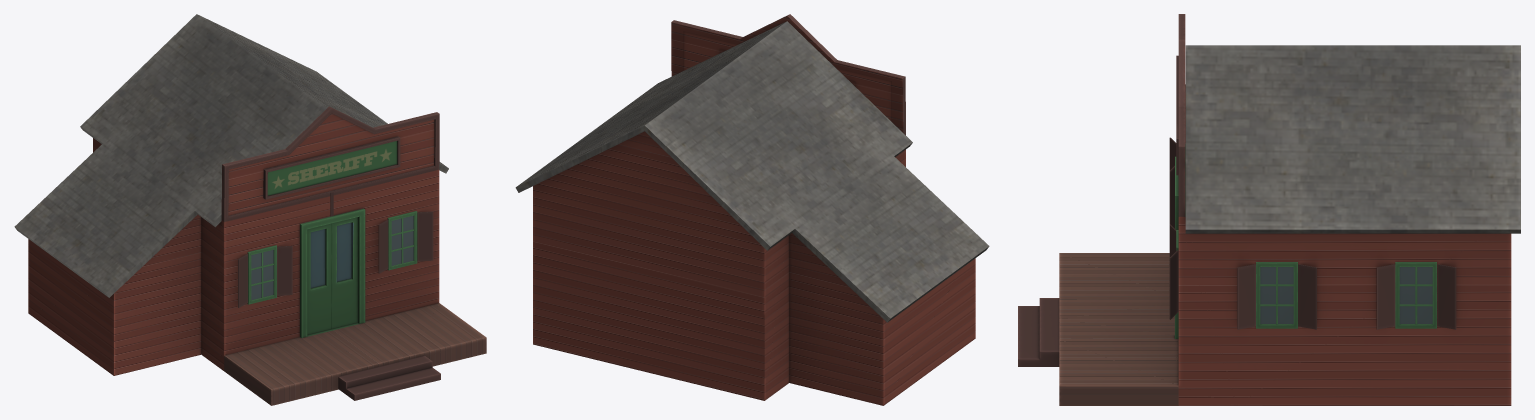
File: Sheriff.fbx
The picture shows the model from 3 angles, left to right: view 1: azimuth 30°, elevation 25°; view 2: azimuth 150°, elevation 25°; view 3: azimuth 270°, elevation 25°; orthographic projection. The views are drawn at different scales.
Parts seen in each view (by area): view 1: Building_14; view 2: Building_14; view 3: Building_14.
Boxes of the visible parts, <box> form: Building_14: <box>14,14,486,405</box>; Building_14: <box>515,14,989,405</box>; Building_14: <box>1018,14,1520,405</box>.
Bounding box in the file's own units: 266 × 185 × 281.
